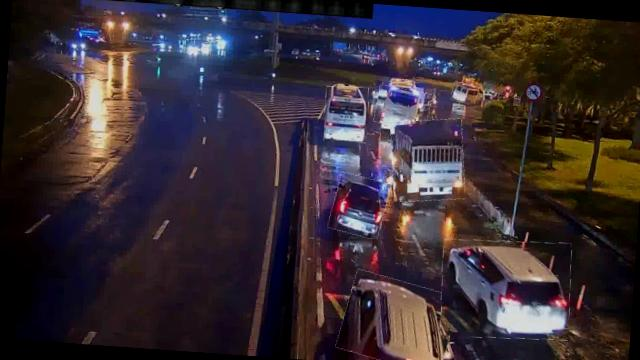Bus: (322, 84, 369, 143), (374, 86, 431, 130), (451, 82, 478, 104)
Car: (437, 236, 573, 342), (338, 272, 459, 360), (328, 173, 388, 238)
Truck: (387, 115, 468, 204)
